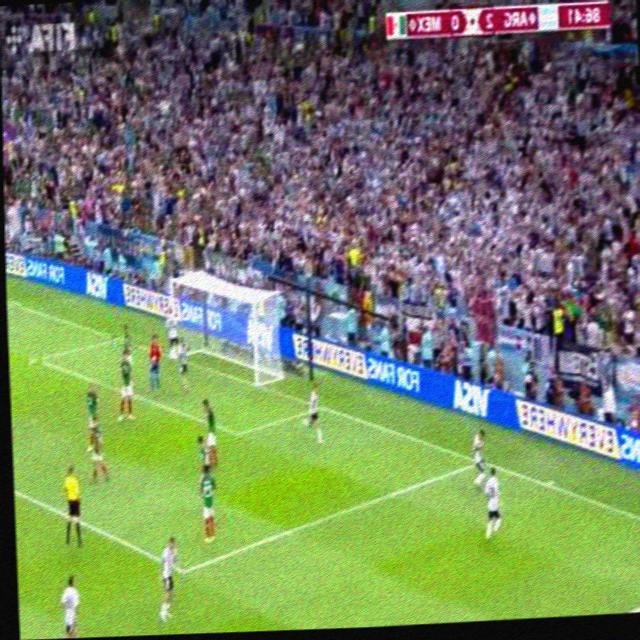bigarea_bottom_inner: (176, 558, 190, 584)
bigarea_top_outter: (9, 298, 20, 313)
smallarea_bottom_inner: (231, 426, 243, 444)
smallarea_bottom_outter: (317, 402, 325, 415)
smallarea_top_inner: (28, 352, 42, 366)
smallarea_top_outter: (111, 332, 124, 346)
